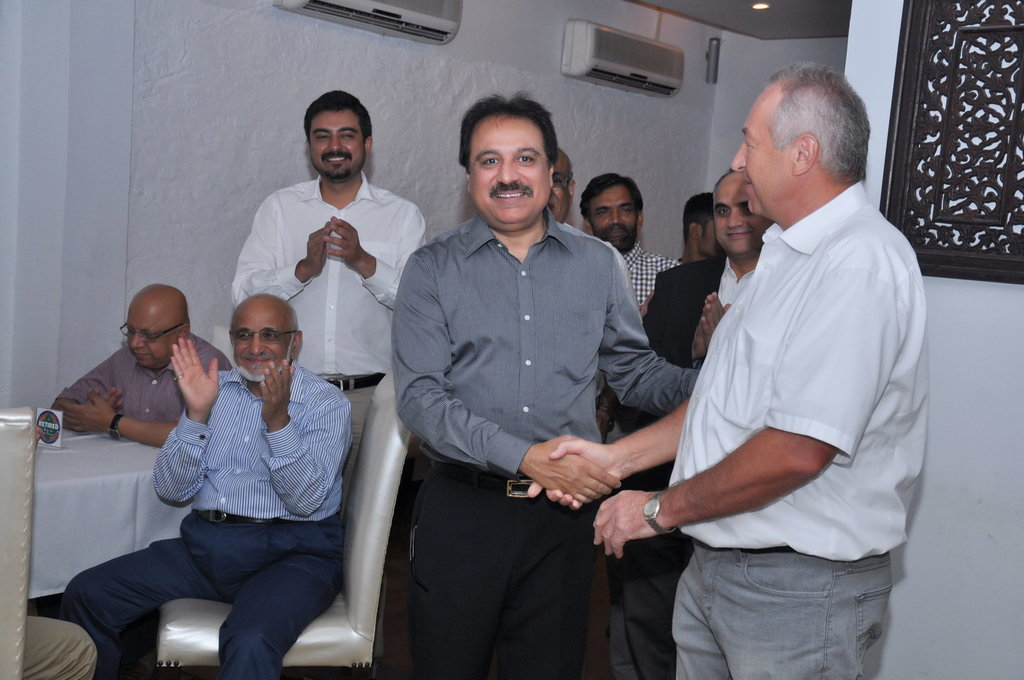Human-face: (468, 113, 546, 229), (730, 97, 799, 212), (706, 171, 768, 251), (234, 305, 293, 384), (309, 108, 364, 179), (123, 303, 174, 368), (583, 183, 638, 240), (547, 155, 568, 221), (556, 154, 575, 223)
